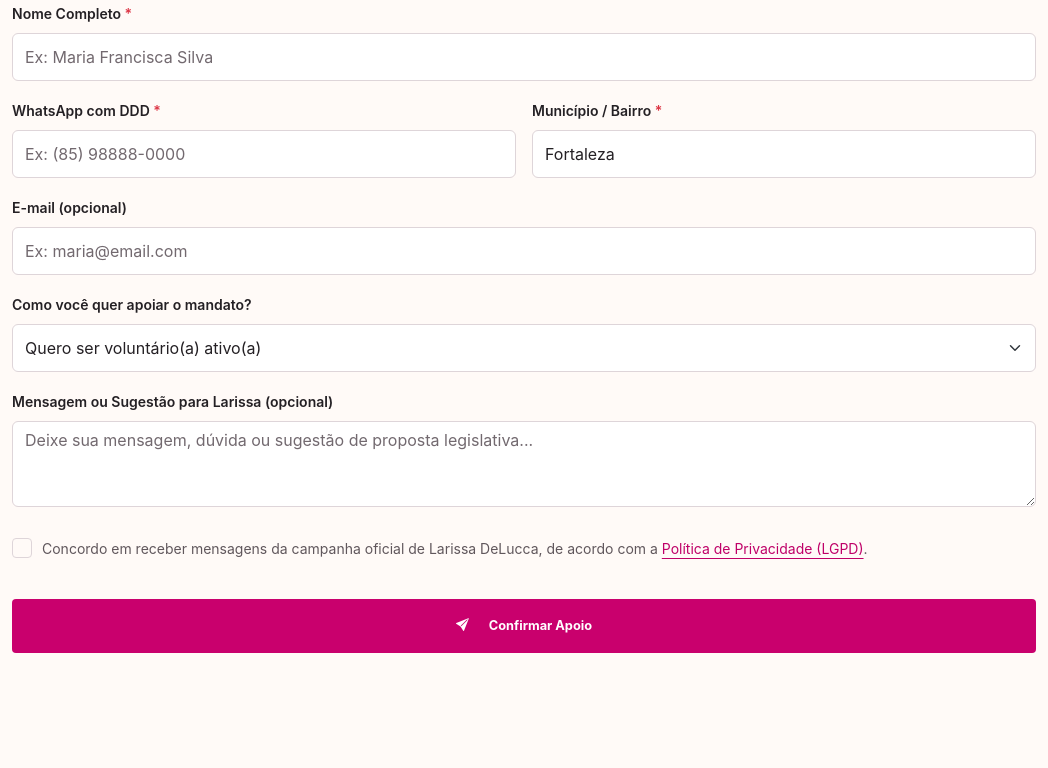
Test: VolunteerForm Component › validates mandatory fields before submitting
Click the button "Confirmar Apoio". click: (524, 626)
box: [12, 600, 1036, 653]
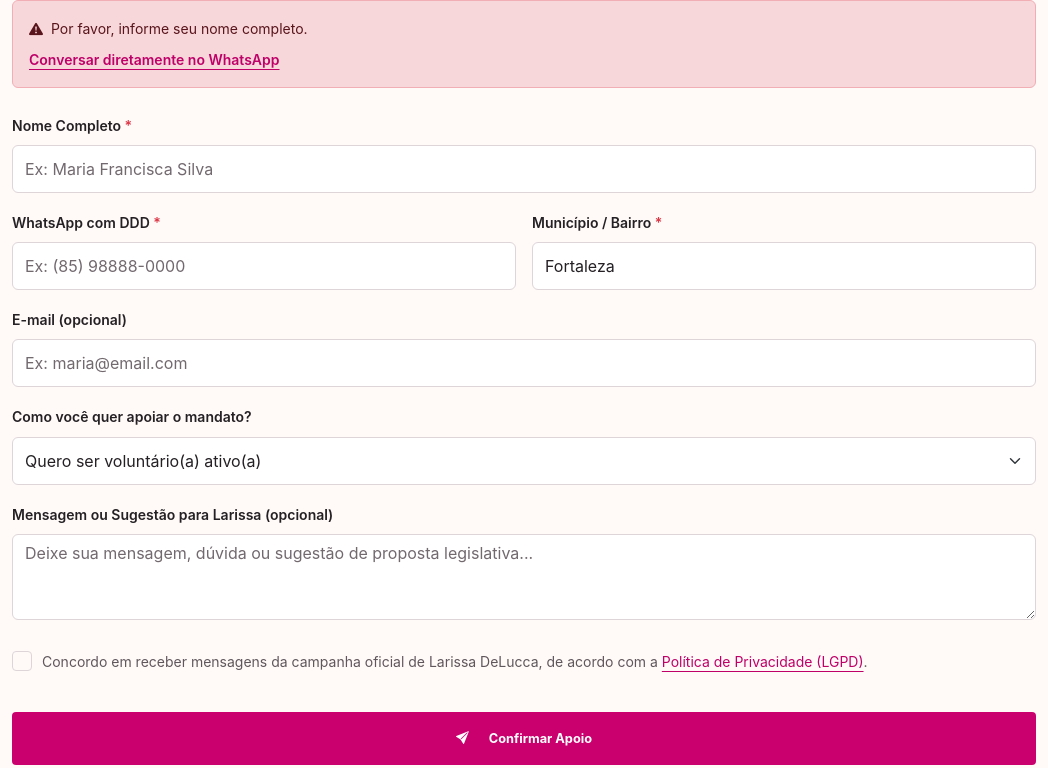
expect the message shows "Por favor, informe seu nome completo": met, box [51, 20, 308, 37]
